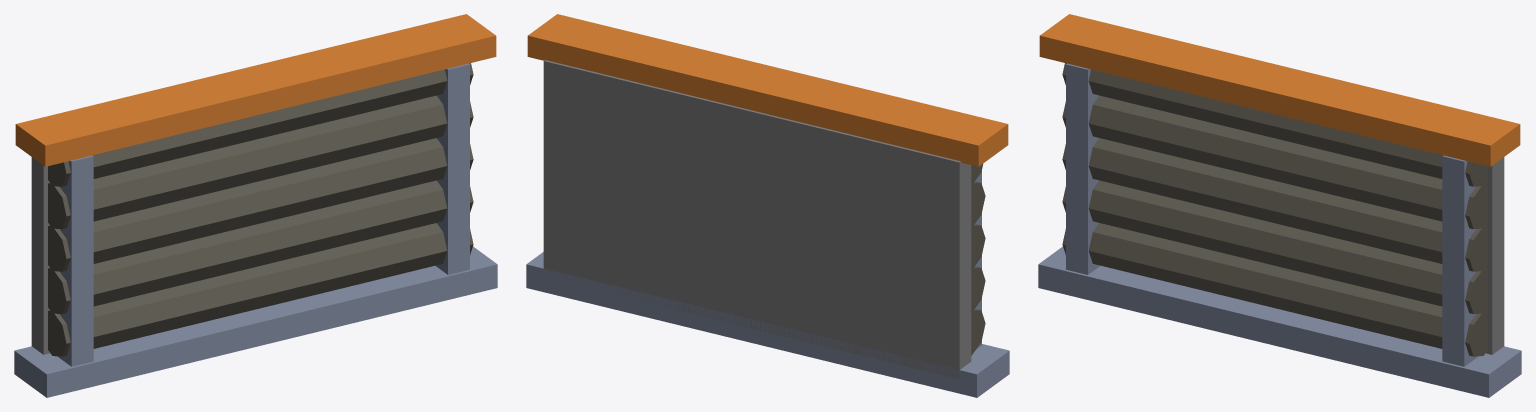
File: wall_soft.glb
3 renders of one model, left to right at view 1: azimuth 30°, elevation 25°; view 2: azimuth 150°, elevation 25°; view 3: azimuth 330°, elevation 25°, orthographic.
Parts seen in each view (by area): view 1: wall_soft; view 2: wall_soft; view 3: wall_soft.
Boxes of the visible parts, x1,y1,x2,y2 form: wall_soft: [14, 14, 497, 397]; wall_soft: [526, 14, 1009, 397]; wall_soft: [1038, 14, 1521, 397].
Bounding box in the file's own units: 2 × 1.06 × 0.25.
